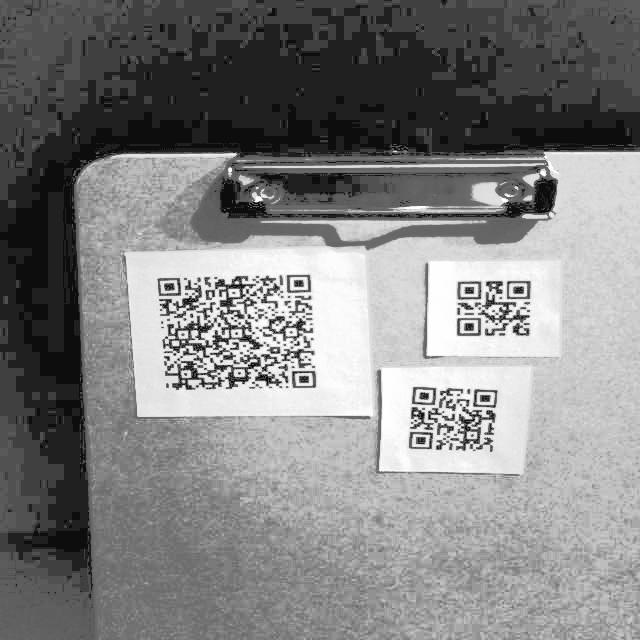qr_code: (147, 257, 326, 402), (396, 376, 510, 464), (441, 269, 541, 348)
